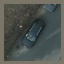car: (21, 18, 45, 48)
